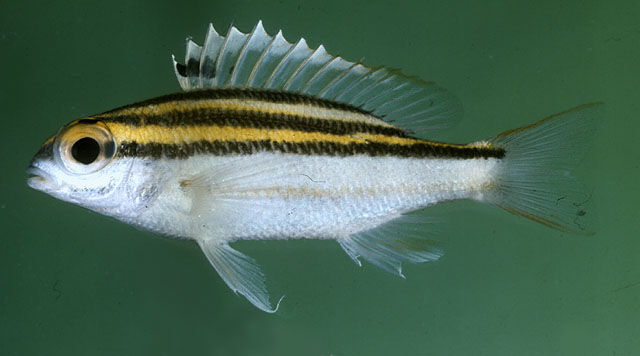fish: (24, 16, 606, 316)
